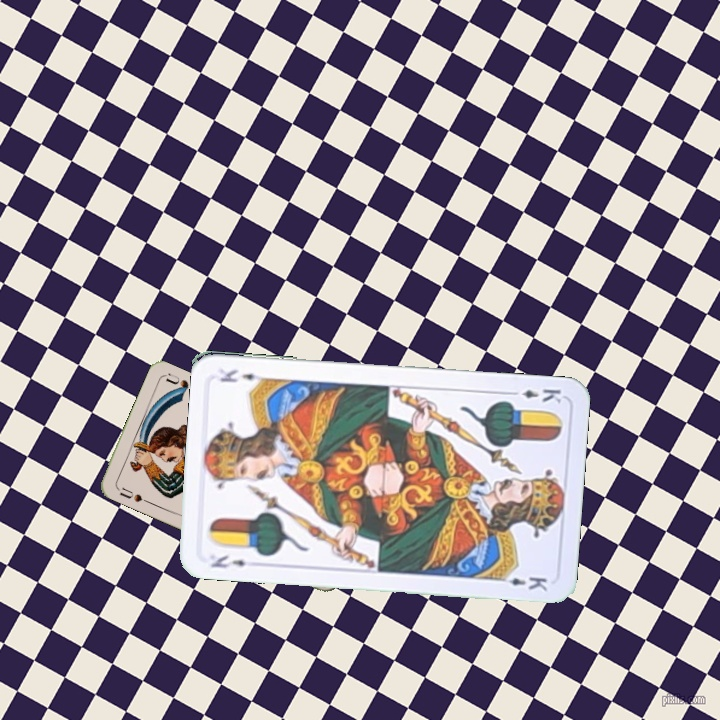EK: (505, 385, 564, 405), (206, 551, 248, 571)
SU: (113, 483, 151, 505)
